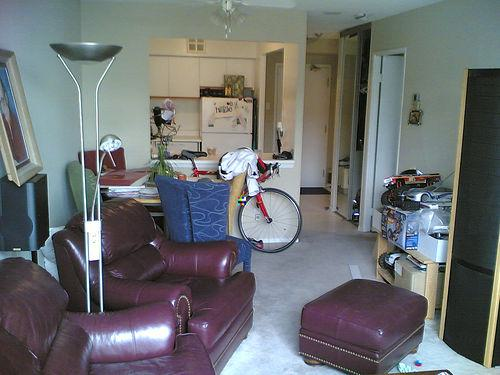car: (180, 147, 304, 255)
chair: (51, 196, 257, 374), (1, 256, 218, 375), (154, 176, 253, 271)
